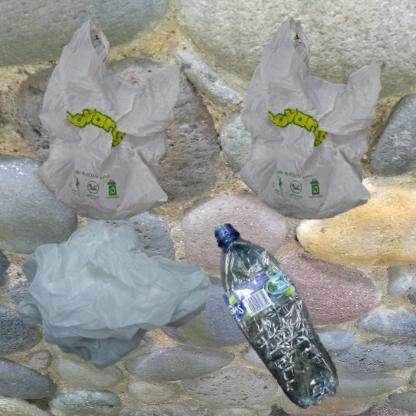bolsa: (10, 10, 236, 265), (213, 10, 416, 262), (10, 213, 223, 385)
botella: (213, 213, 347, 416)
